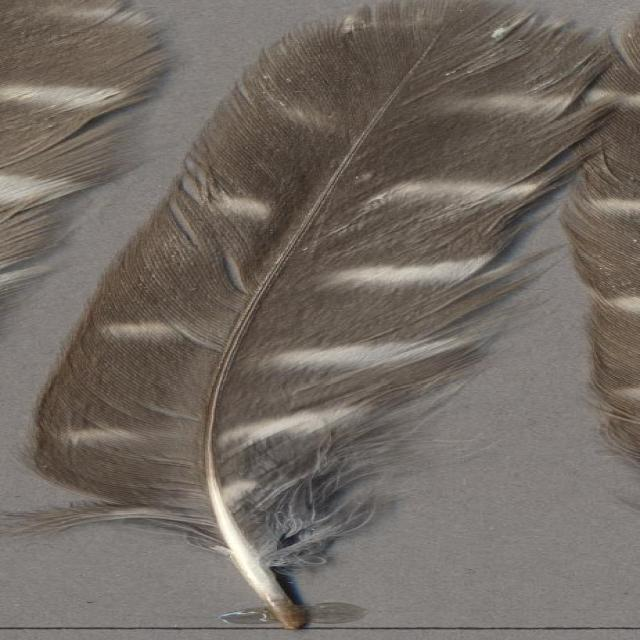feather: (23, 0, 637, 640)
